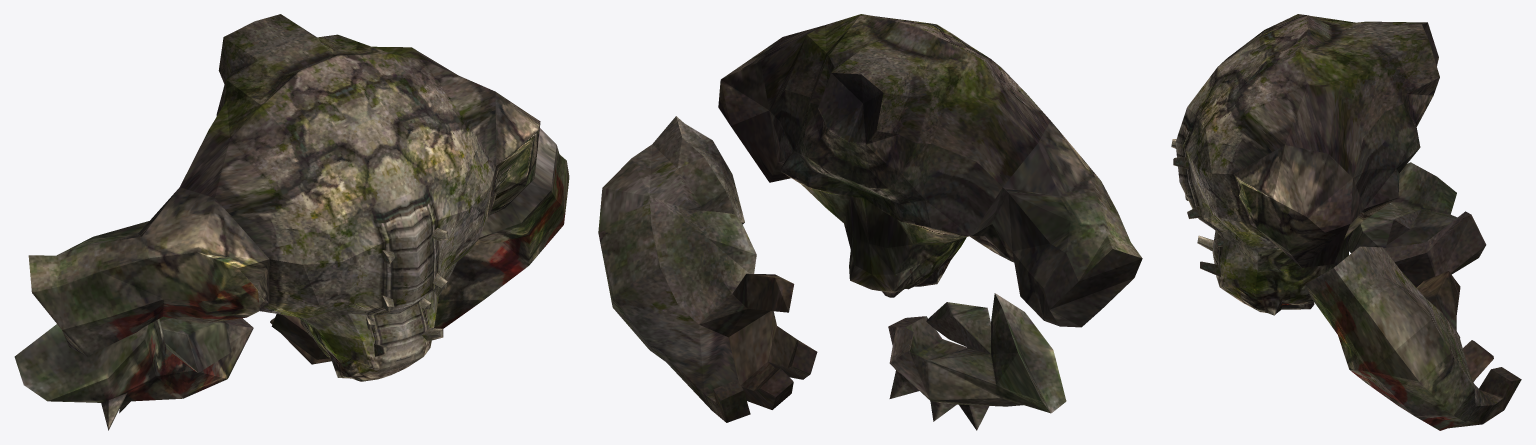
The model's file is machinery_maolisi.obj.
The picture shows the model from 3 angles, left to right: view 1: azimuth 30°, elevation 25°; view 2: azimuth 150°, elevation 25°; view 3: azimuth 270°, elevation 25°; orthographic projection. The views are drawn at different scales.
Parts seen in each view (by area): view 1: Object01; view 2: Object01; view 3: Object01.
Boxes of the visible parts, bbox=[...] form: Object01: bbox=[14, 14, 569, 430]; Object01: bbox=[598, 14, 1142, 430]; Object01: bbox=[1171, 14, 1521, 430].
Bounding box in the file's own units: 190 × 124 × 113.
Materials: 1 (1 with a texture image).
